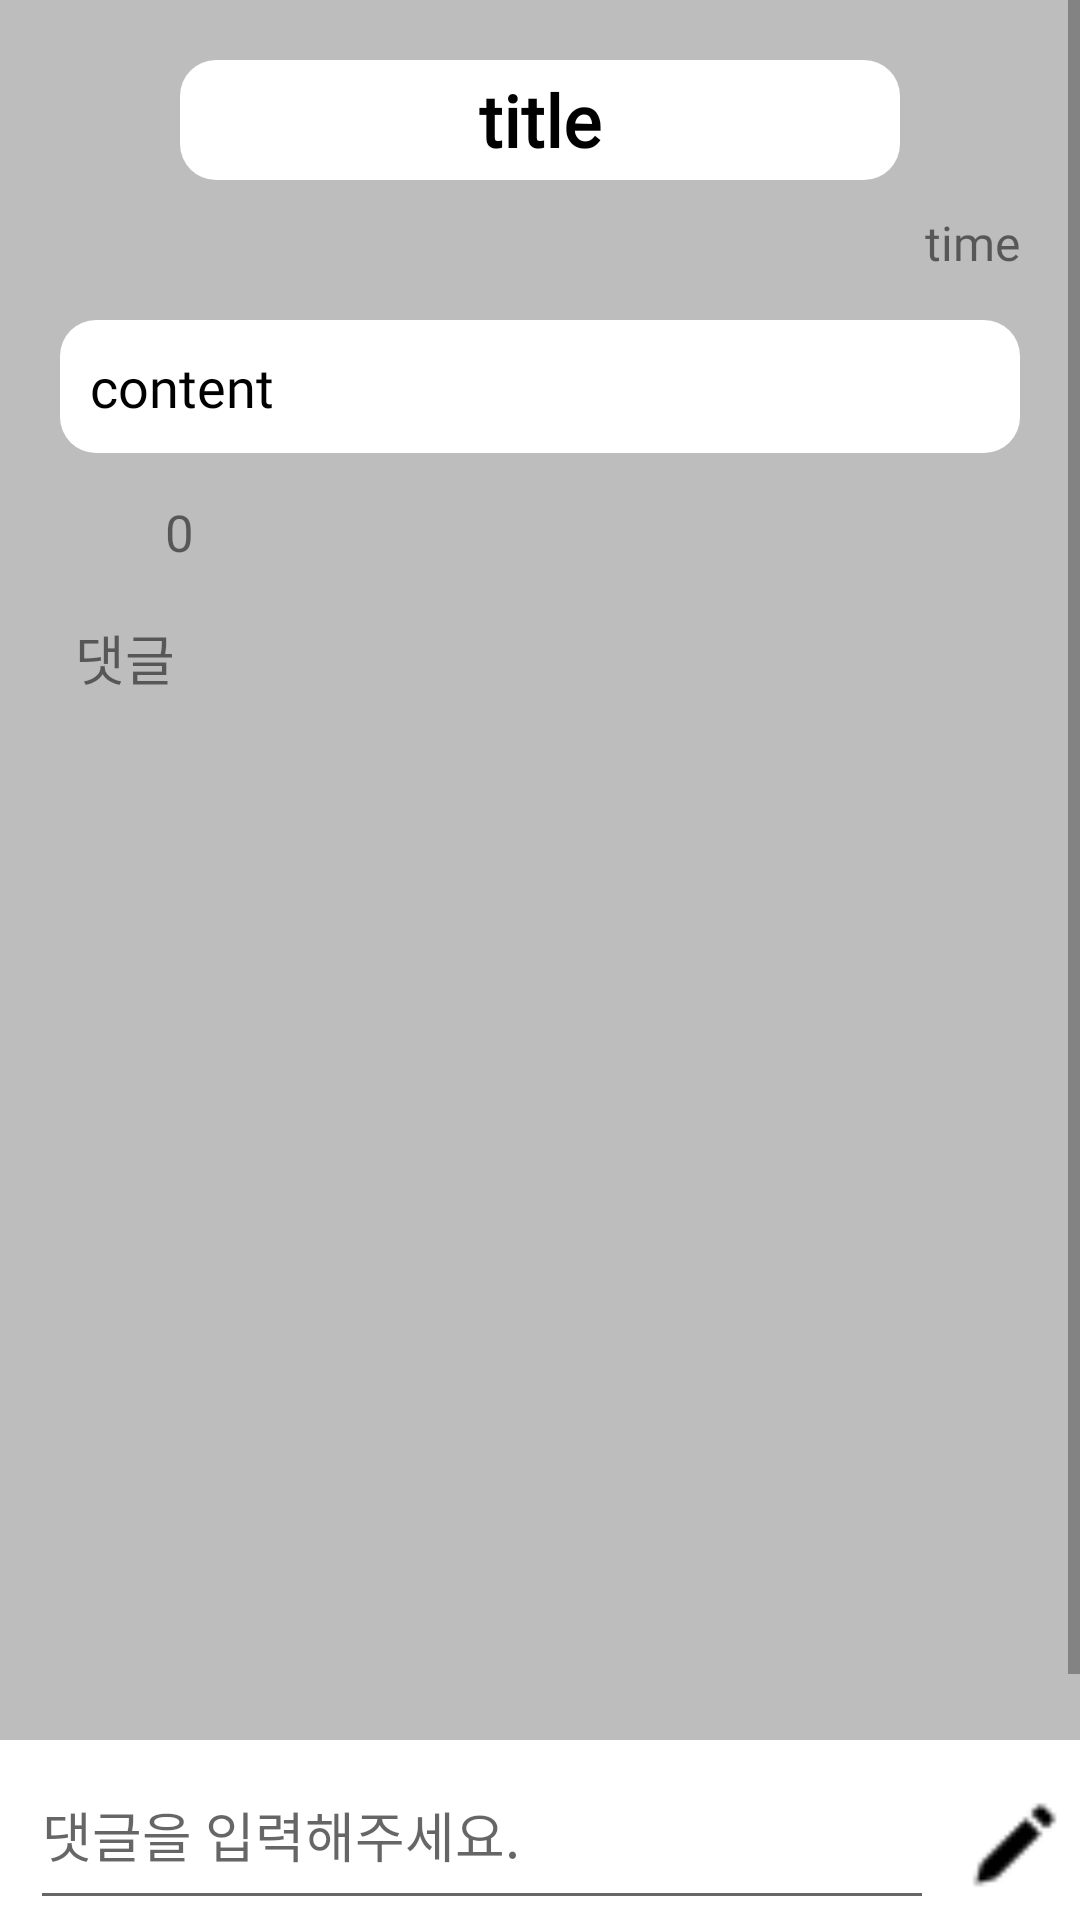

Where to tap for icons on this 1080*1920 app screen, as (x,y):
pen: (1014,1844)
